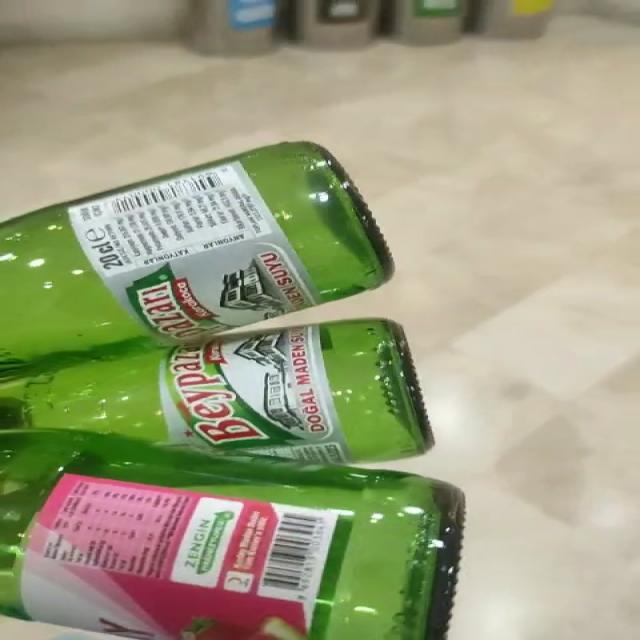glass: (0, 142, 464, 640)
